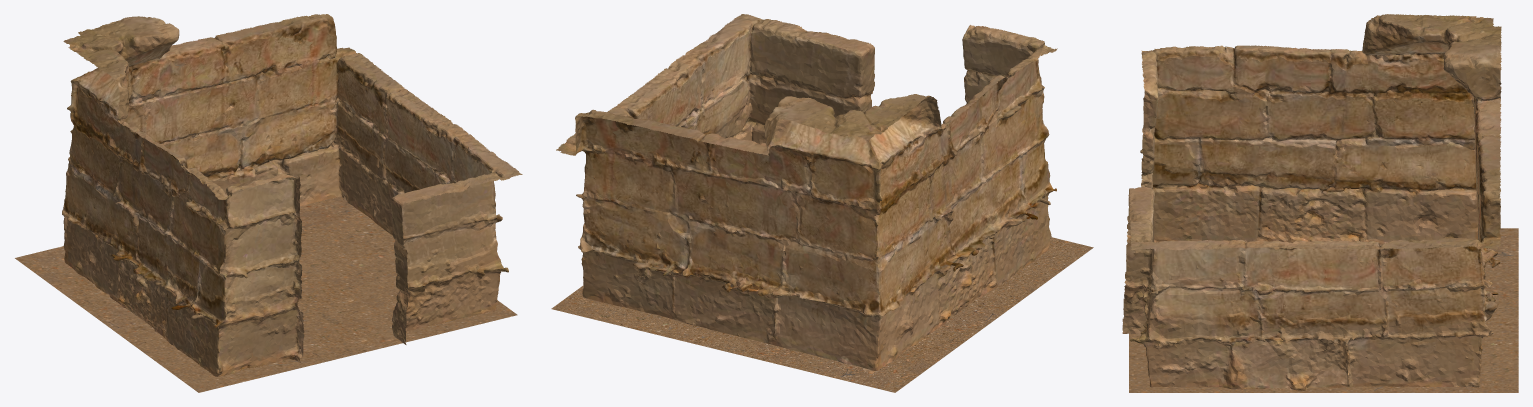
File: Tomba_dama_ombrellino.glb
3 renders of one model, left to right at view 1: azimuth 30°, elevation 25°; view 2: azimuth 150°, elevation 25°; view 3: azimuth 270°, elevation 25°, orthographic. The views are drawn at different scales.
Parts seen in each view (by area): view 1: Tomba sempli, Plane; view 2: Tomba sempli, Plane; view 3: Tomba sempli, Plane.
Part boxes in pixels (x1,y1,x2,y2): Tomba sempli: (62, 14, 522, 376); Plane: (15, 196, 517, 392); Tomba sempli: (556, 14, 1057, 370); Plane: (551, 237, 1093, 392); Tomba sempli: (1122, 14, 1501, 390); Plane: (1129, 228, 1518, 392).
Bounding box in the file's own units: 3.26 × 2.12 × 3.25.
Materials: 2 (2 with a texture image).
